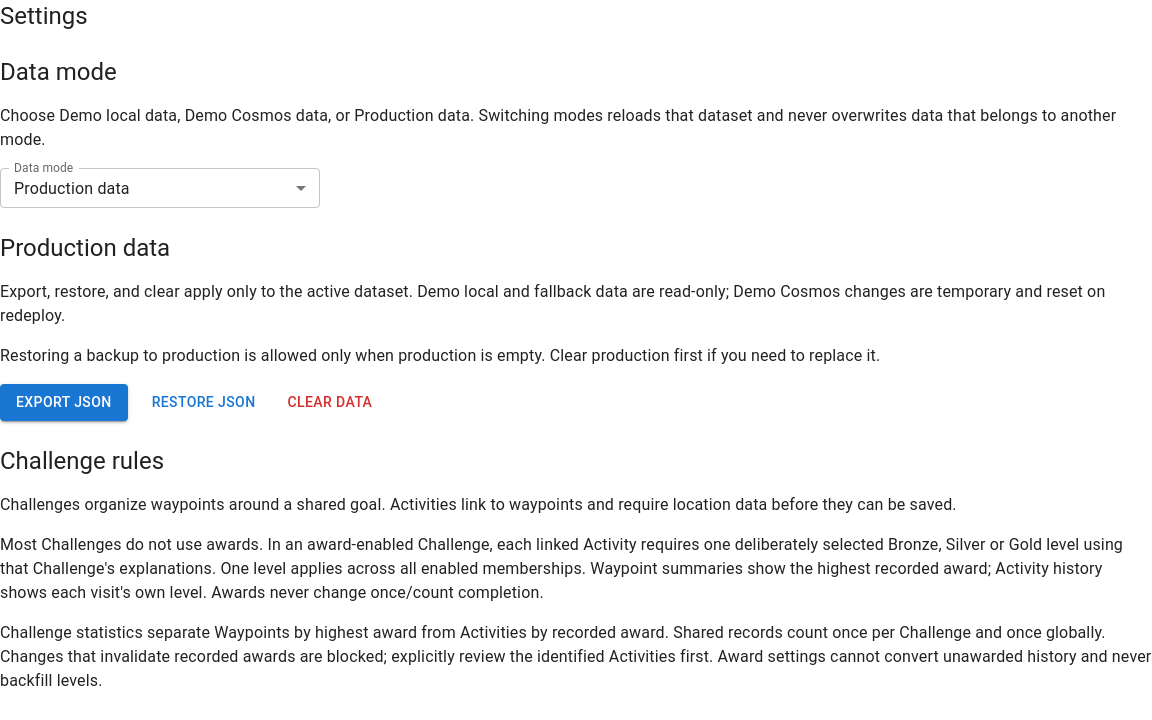
Test: Settings import errors › preserves a specific clear error
Click the button "Clear data".
click(330, 402)  # box [280,384,380,420]
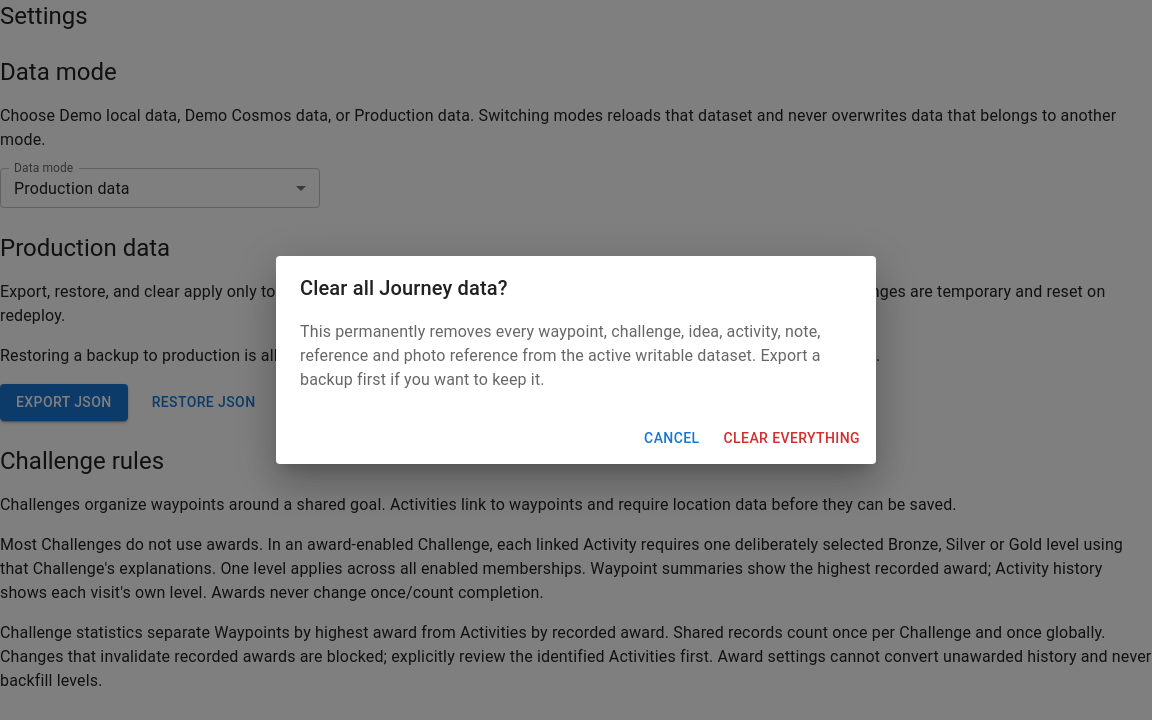
Click the button "Clear everything".
click(792, 438)  # box [716,420,868,456]
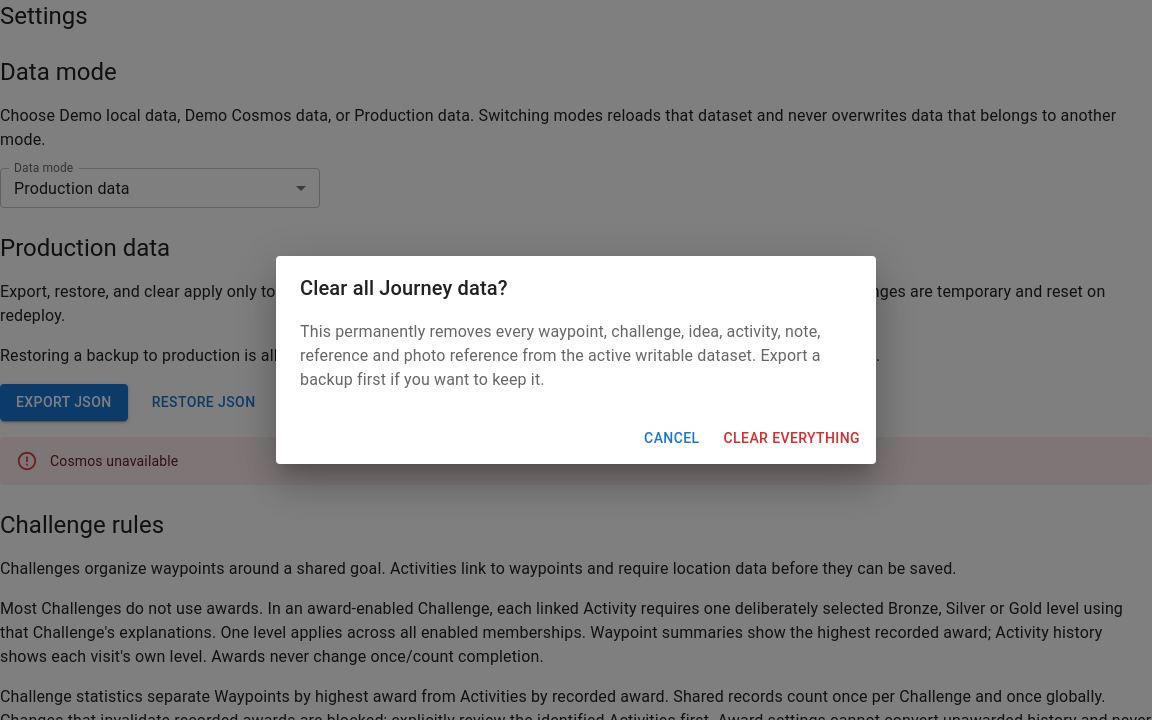
expect the text "Cosmos unavailable" is shown: met, box [50,452,178,468]
